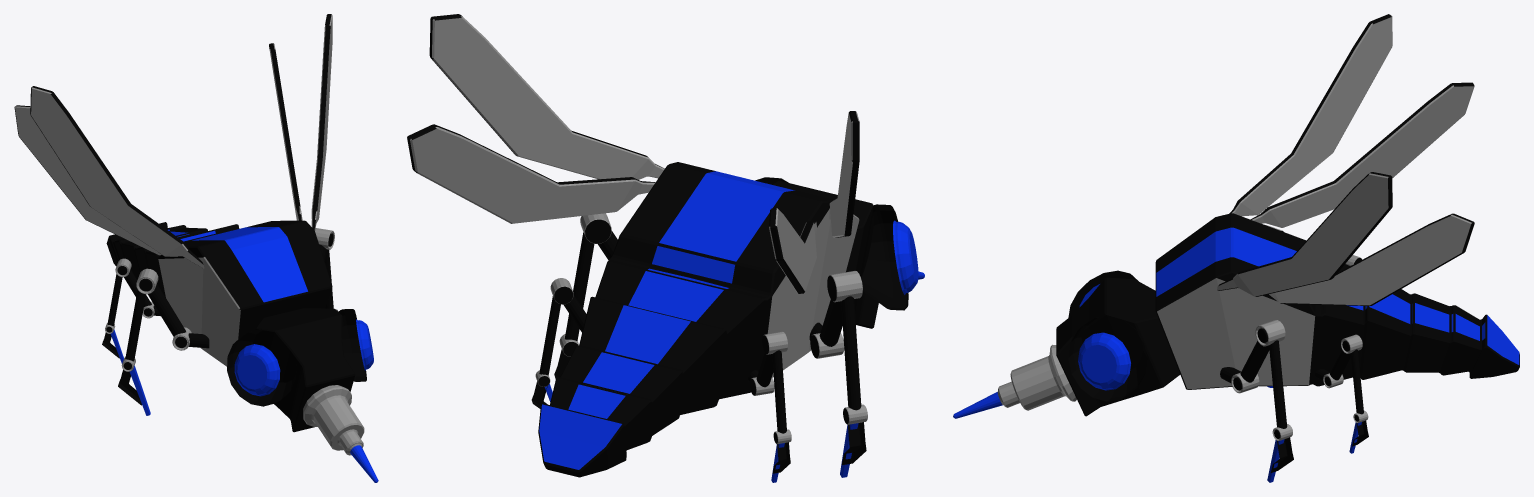
Rendered from Flies_Mecha_Blue.fbx.
The picture shows the model from 3 angles, left to right: view 1: azimuth 30°, elevation 25°; view 2: azimuth 150°, elevation 25°; view 3: azimuth 270°, elevation 25°; orthographic projection. The views are drawn at different scales.
Parts seen in each view (by area): view 1: Fly_Blue; view 2: Fly_Blue; view 3: Fly_Blue.
Boxes of the visible parts, x1,y1,x2,y2 form: Fly_Blue: (14,14,378,482); Fly_Blue: (407,14,924,482); Fly_Blue: (953,14,1519,482).
Bounding box in the file's own units: 246 × 237 × 359.
